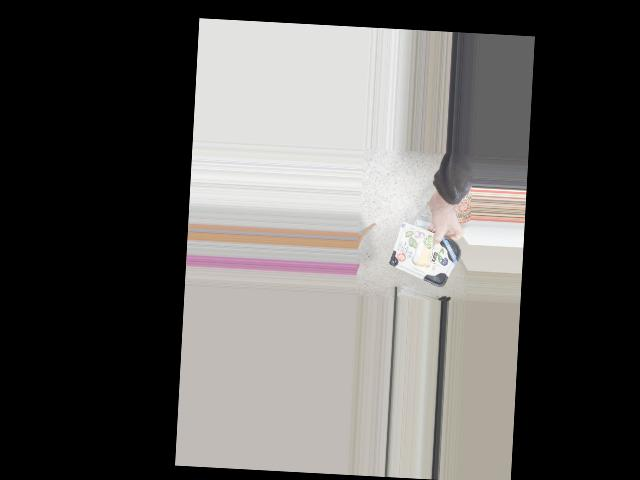cheese: (390, 227, 459, 278)
